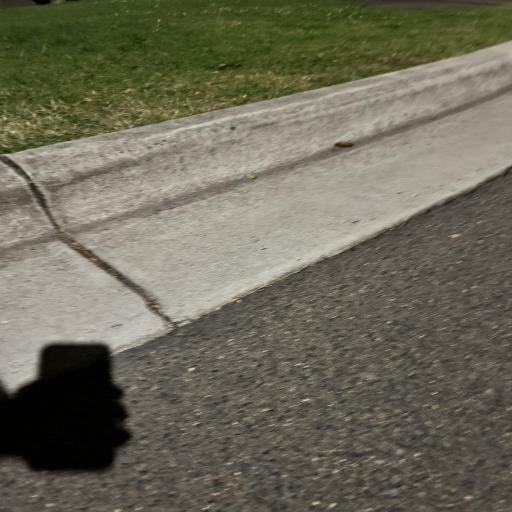kerb: (0, 42, 512, 390)
